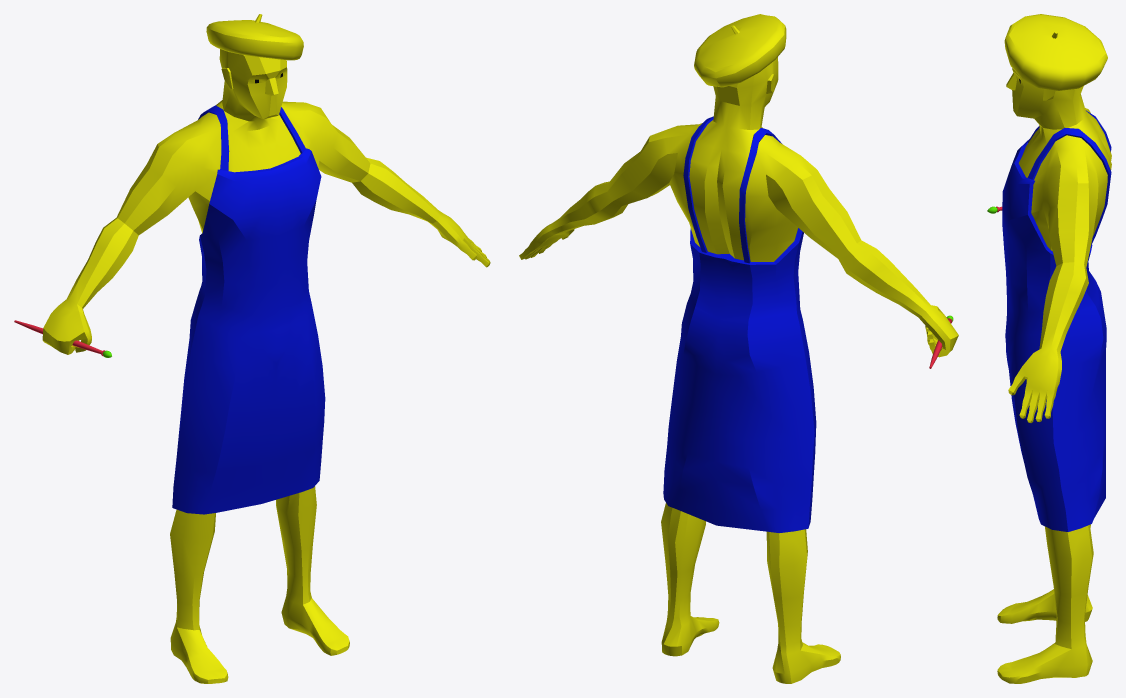
The model's file is Akami.fbx.
The picture shows the model from 3 angles, left to right: view 1: azimuth 30°, elevation 25°; view 2: azimuth 150°, elevation 25°; view 3: azimuth 270°, elevation 25°; orthographic projection.
Visible parts, largest first — view 1: Akami; view 2: Akami; view 3: Akami.
Boxes of the visible parts, x1,y1,x2,y2 form: Akami: (14, 14, 490, 683); Akami: (519, 14, 958, 683); Akami: (987, 14, 1111, 683).
Bounding box in the file's own units: 605 × 830 × 151.
